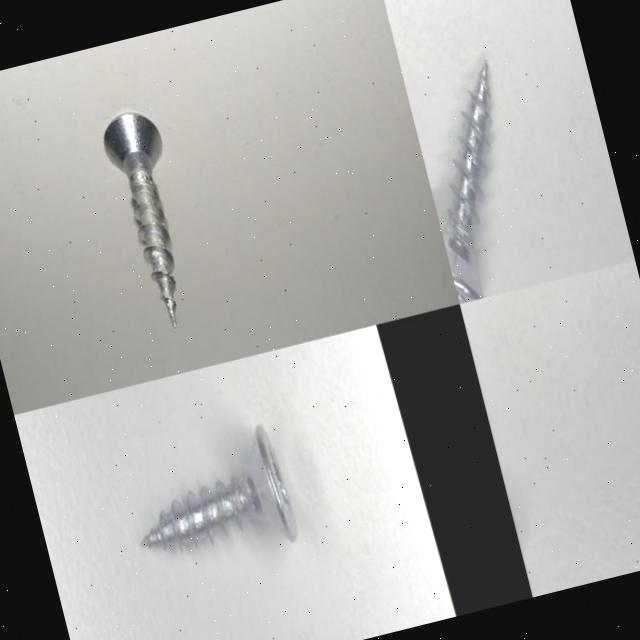Screw: (141, 425, 298, 551), (104, 113, 177, 330), (442, 61, 491, 303)
